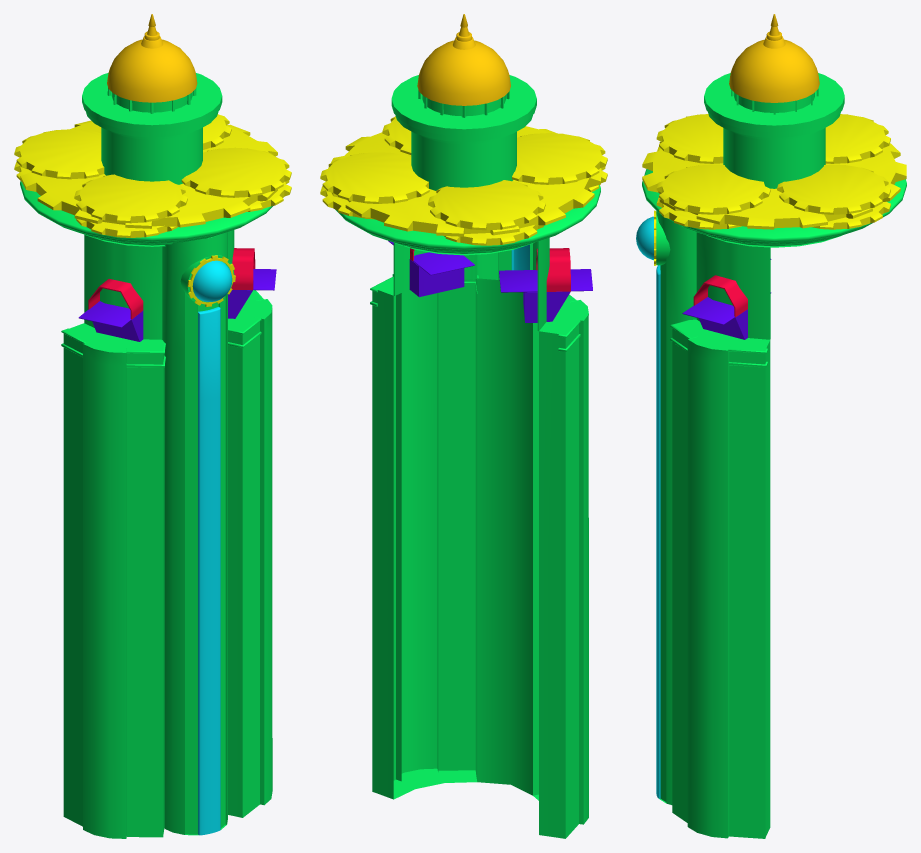
The model's file is MainBuilding.fbx.
The picture shows the model from 3 angles, left to right: view 1: azimuth 30°, elevation 25°; view 2: azimuth 150°, elevation 25°; view 3: azimuth 270°, elevation 25°; orthographic projection. The views are drawn at different scales.
Parts seen in each view (by area): view 1: MainBuilding; view 2: MainBuilding; view 3: MainBuilding.
Boxes of the visible parts, bbox=[...] form: MainBuilding: bbox=[14, 14, 291, 838]; MainBuilding: bbox=[320, 14, 607, 838]; MainBuilding: bbox=[636, 14, 906, 838].
Size of the model in its own units: 1.77 by 5.72 by 1.8.
